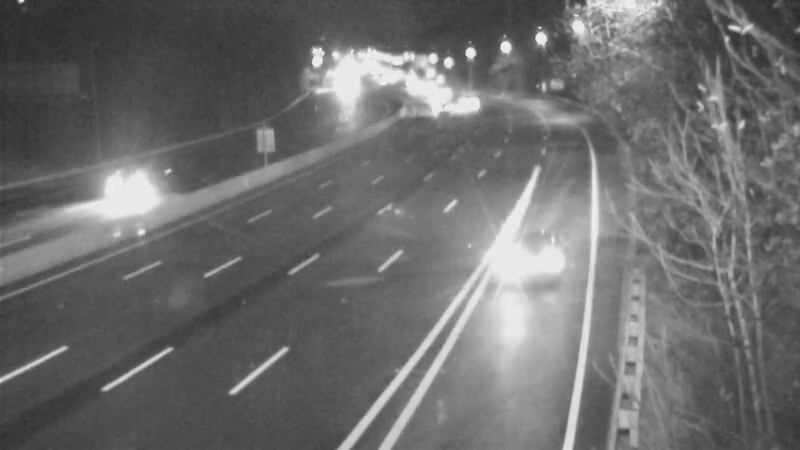vehicle: (492, 208, 572, 288), (76, 146, 156, 226), (444, 79, 494, 129), (415, 85, 465, 135)
